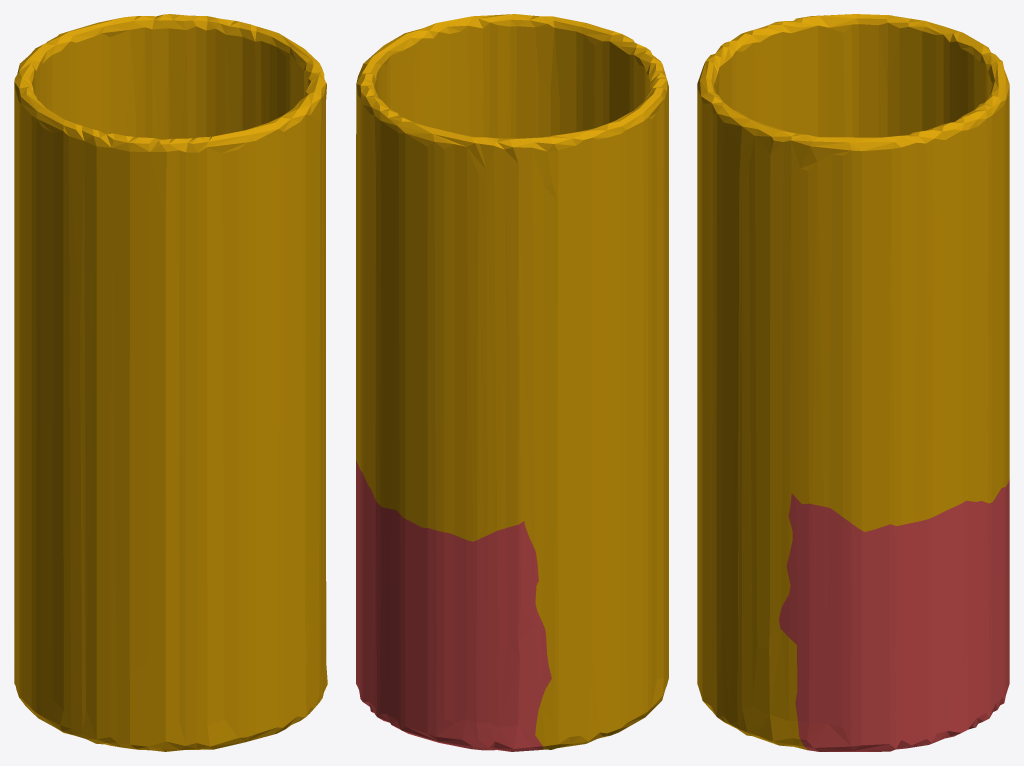
File: fractured_11_2pcs.glb
3 renders of one model, left to right at view 1: azimuth 30°, elevation 25°; view 2: azimuth 150°, elevation 25°; view 3: azimuth 270°, elevation 25°, orthographic.
Visible parts, largest first — view 1: piece_0.obj; view 2: piece_0.obj, piece_1.obj; view 3: piece_0.obj, piece_1.obj.
Boxes of the visible parts, x1=… form: piece_0.obj: x1=14, y1=14, x2=327, y2=751; piece_0.obj: x1=356, y1=14, x2=668, y2=749; piece_1.obj: x1=356, y1=460, x2=551, y2=751; piece_0.obj: x1=697, y1=14, x2=1009, y2=750; piece_1.obj: x1=779, y1=478, x2=1009, y2=751.
Bounding box in the file's own units: 0.4605 × 1 × 0.4605.
